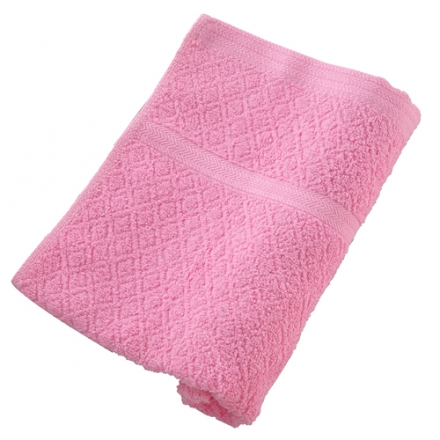flexible: (13, 11, 422, 427)
